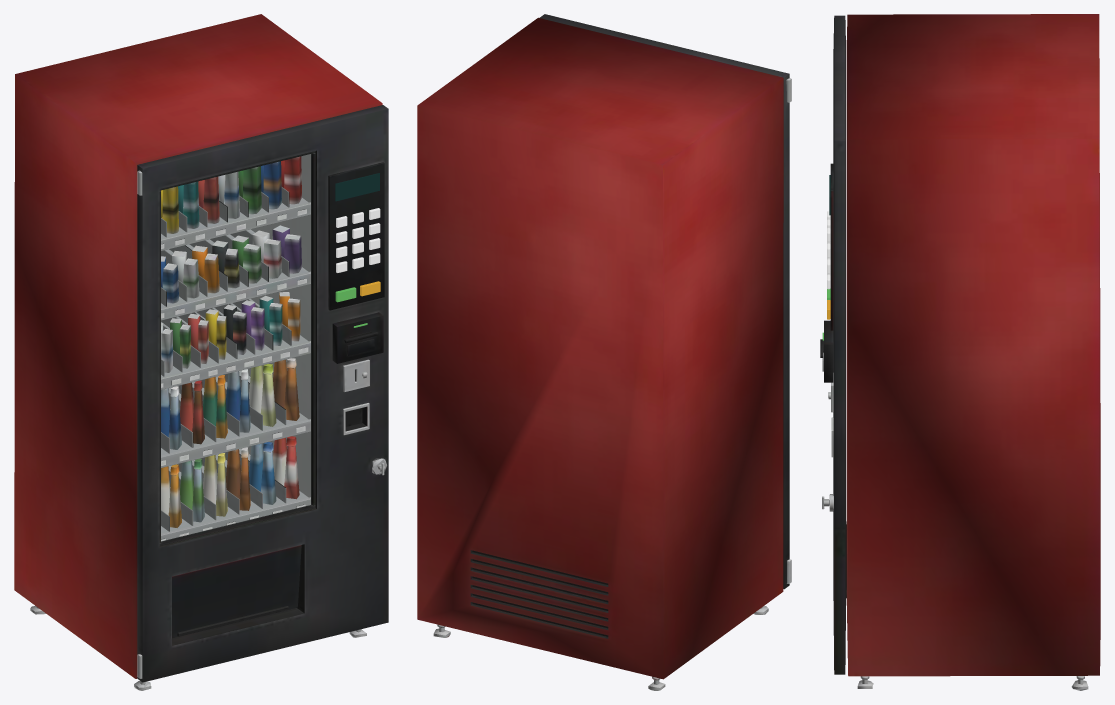
Rendered from vending-machine.glb.
3 renders of one model, left to right at view 1: azimuth 30°, elevation 25°; view 2: azimuth 150°, elevation 25°; view 3: azimuth 270°, elevation 25°, orthographic. The views are drawn at different scales.
Parts seen in each view (by area): view 1: vending-machine_body, vending-machine_goods, vending-machine_keypad_lamp, vending-machine_menu_display; view 2: vending-machine_body; view 3: vending-machine_body.
Boxes of the visible parts, x1,y1,x2,y2 form: vending-machine_body: (14, 14, 388, 690); vending-machine_goods: (161, 156, 310, 541); vending-machine_keypad_lamp: (336, 208, 380, 272); vending-machine_menu_display: (335, 173, 379, 201); vending-machine_body: (417, 14, 791, 690); vending-machine_body: (820, 14, 1100, 690).
Size of the model in its own units: 0.8996 by 1.85 by 0.8449.
Materials: 8 (8 with a texture image).
